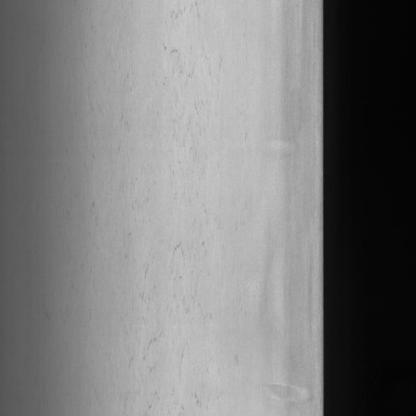silk_spot: (100, 7, 223, 404)
